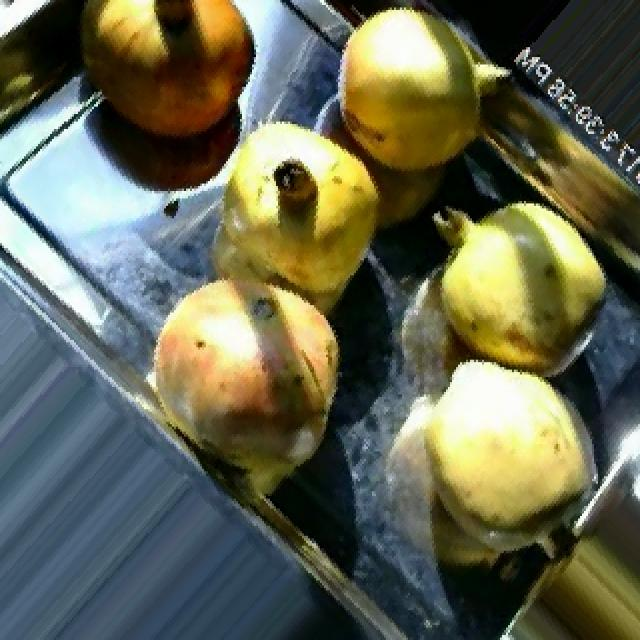fruit: (116, 246, 366, 511), (398, 335, 624, 590), (404, 166, 634, 407), (196, 97, 404, 310), (310, 2, 508, 198), (58, 0, 280, 164)
